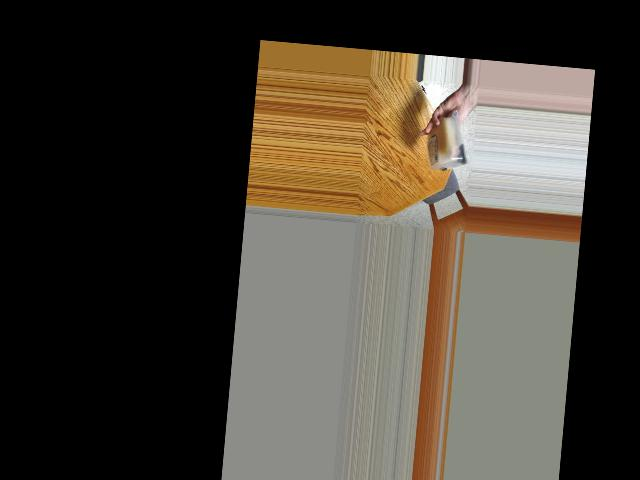cheese: (422, 113, 469, 174)
